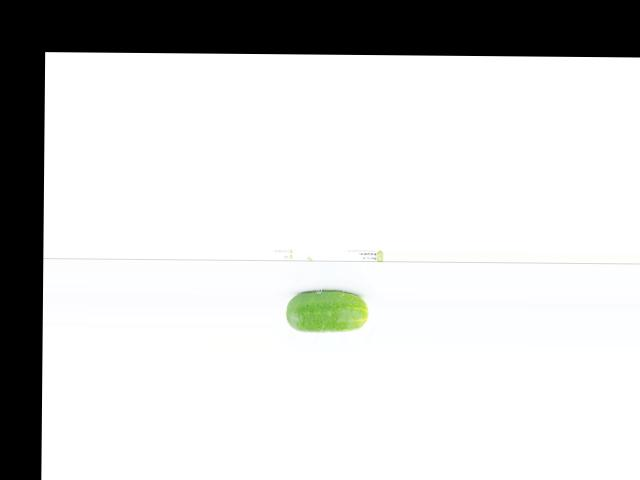cucumber: (285, 289, 367, 331)
